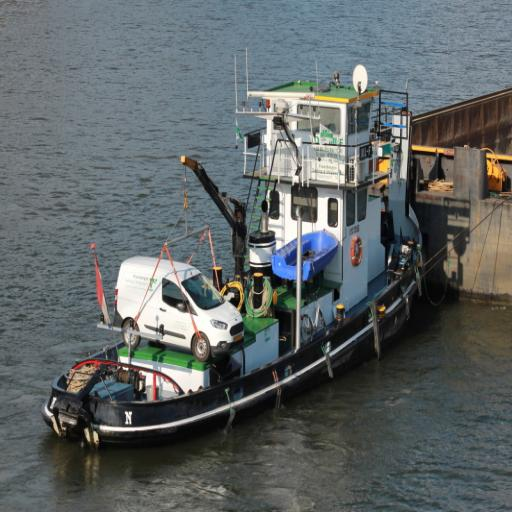tugboat: (38, 42, 443, 462)
